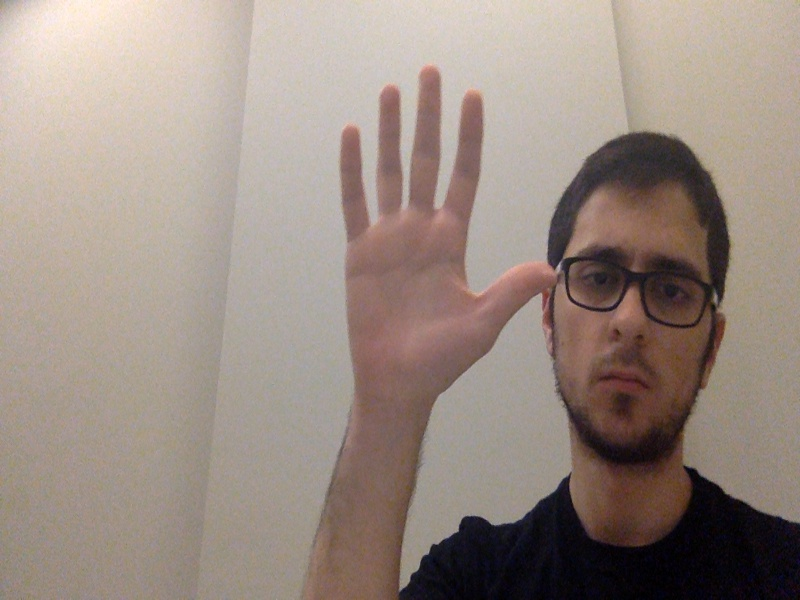5-hand: (337, 64, 554, 391)
